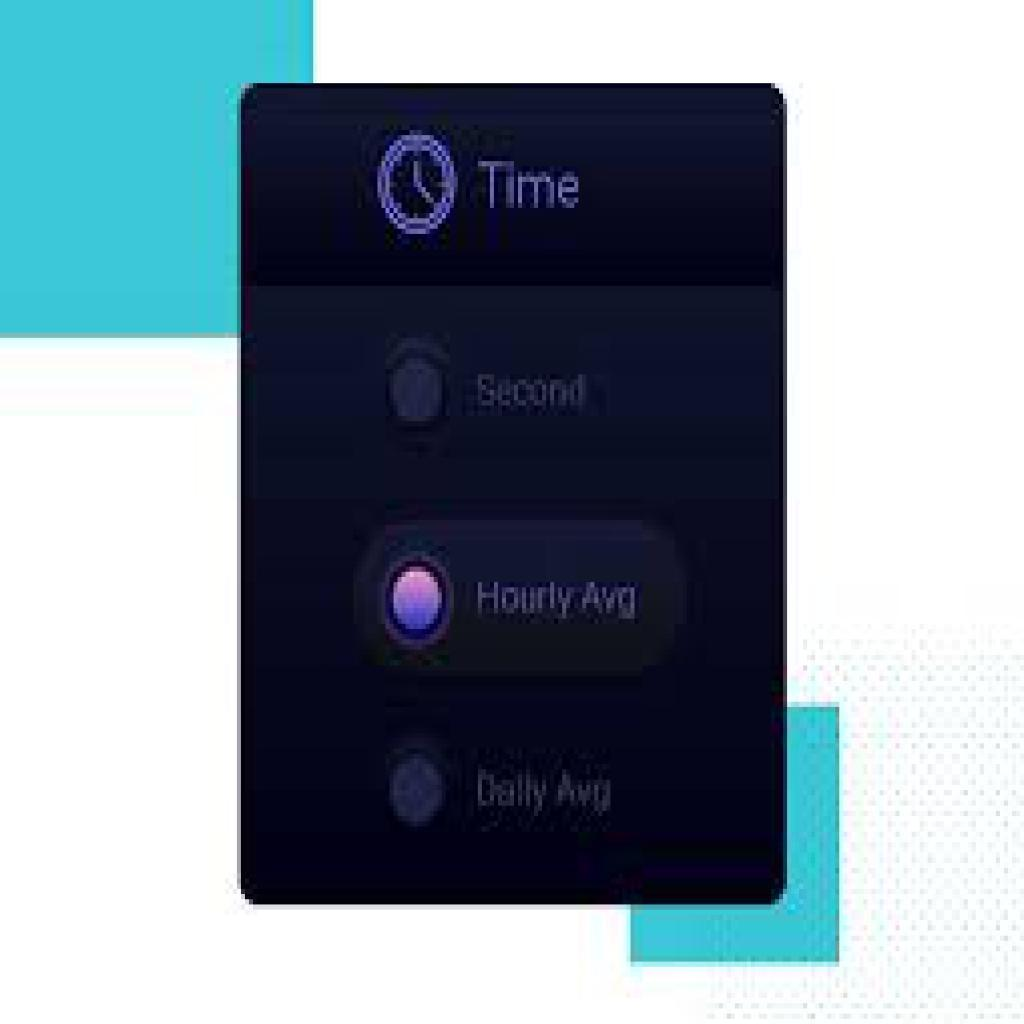radio: (372, 745, 460, 851), (377, 548, 459, 653), (376, 342, 457, 434)
